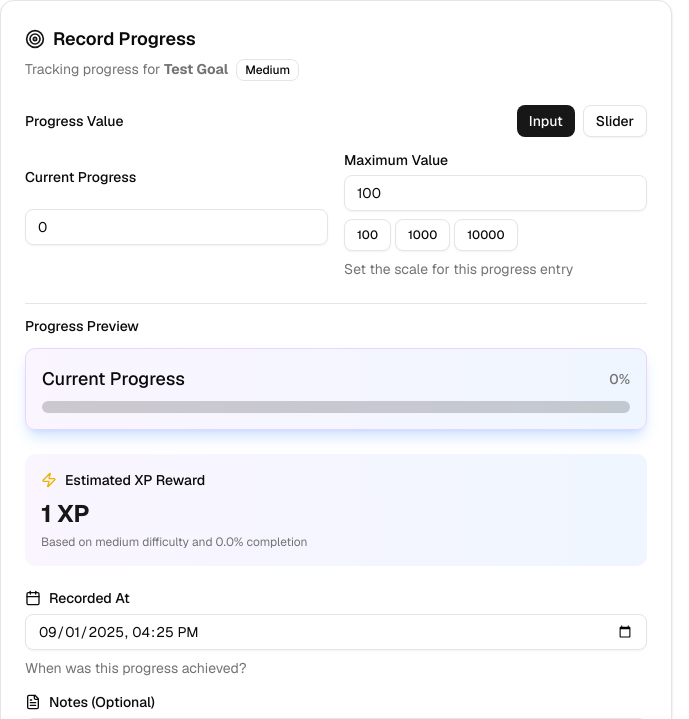
Test: ProgressEntryForm › should show completion bonus for 100% progress
# Change progress to 100 (completion)
Type "100" into the number field labelled "Current Progress" at (176, 227), box [25,209,328,245]
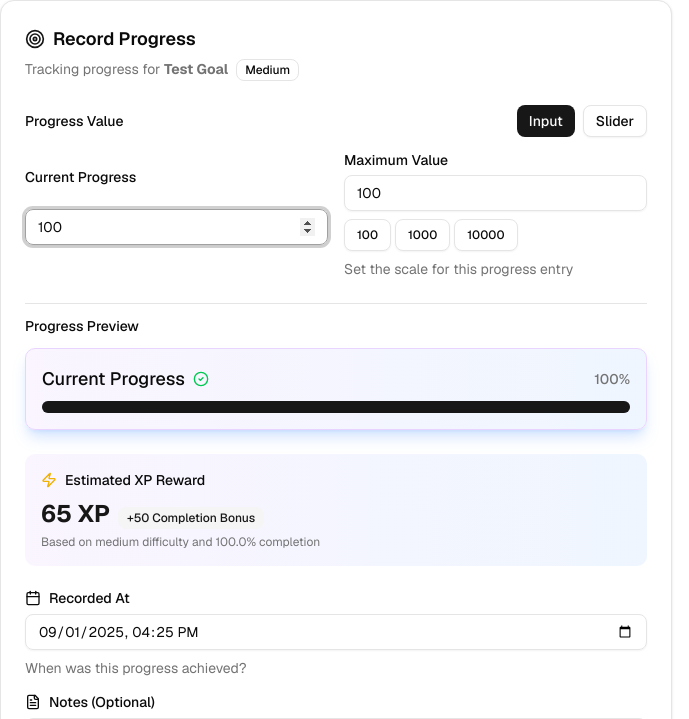
Now the text "+50 Completion Bonus" is shown, box [118,507,264,529]
